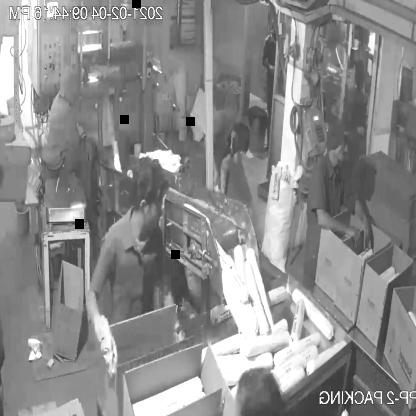glove: (90, 289, 126, 383)
no_glove: (311, 198, 366, 246), (354, 185, 373, 253)
